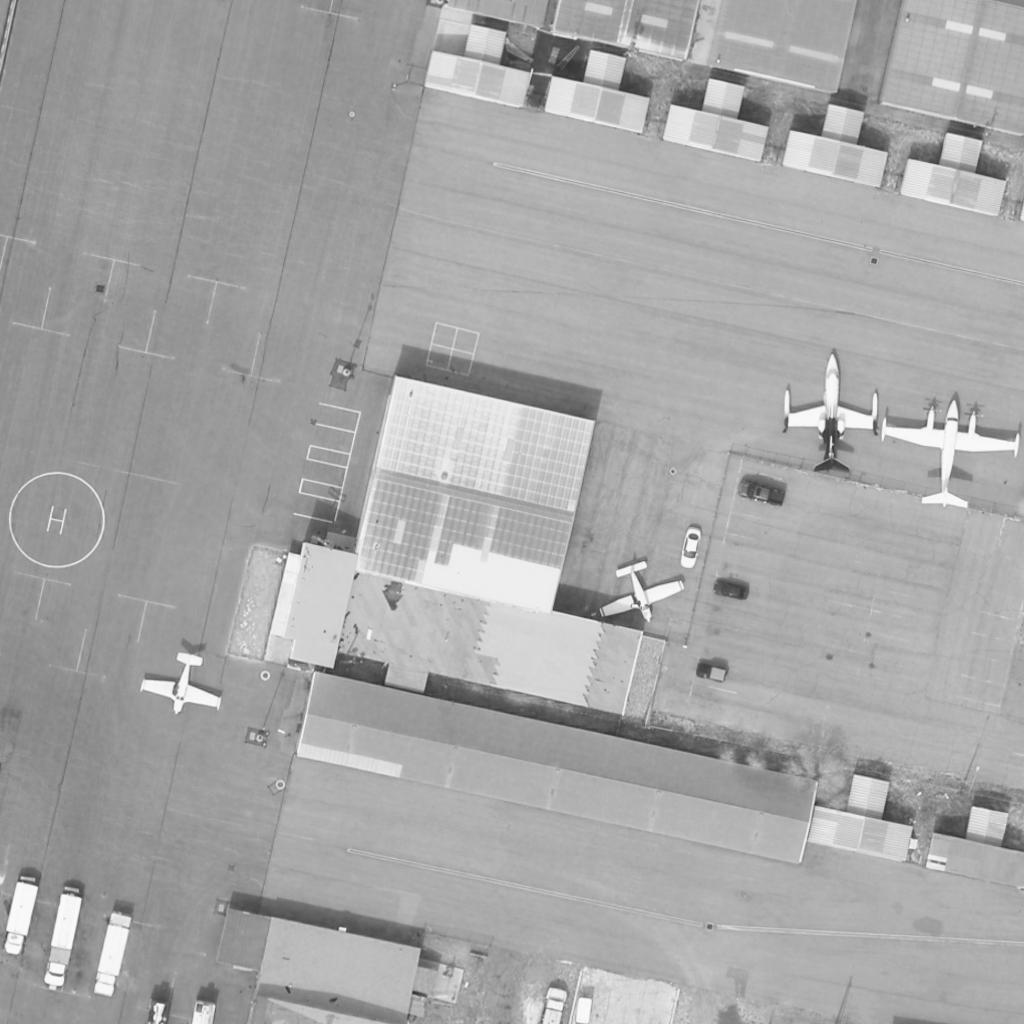vehicle: (42, 889, 82, 991), (89, 911, 133, 1001), (2, 877, 42, 959), (532, 987, 570, 1024), (737, 479, 785, 507), (710, 581, 752, 603), (681, 525, 701, 571), (697, 663, 729, 683), (571, 998, 595, 1024)
